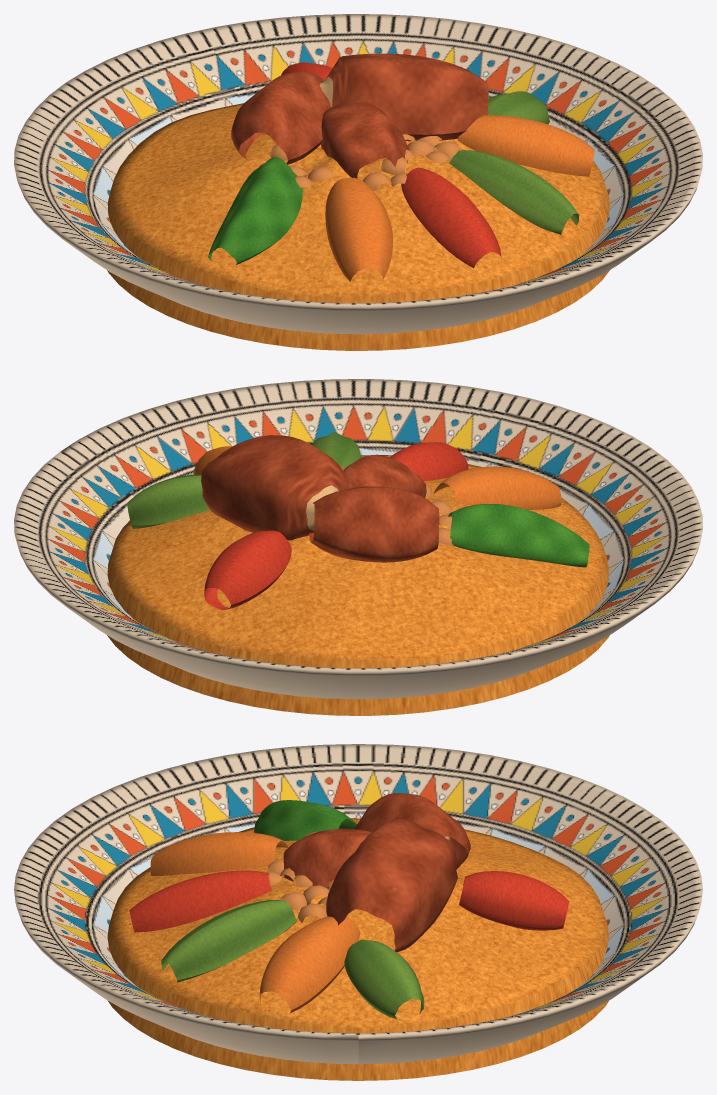
File: Couscous_Plat_090pct.fbx
3 views of the same model, one above another, from view 1: azimuth 30°, elevation 25°; view 2: azimuth 150°, elevation 25°; view 3: azimuth 270°, elevation 25° (orthographic).
Visible parts, largest first — view 1: 00_Plate_Tebsi_Ceramic, 01_Couscous_Semolina_Mound, 02_Meat_Lamb_Shank_Main, 03_Meat_Braised_Left, 06_Veg_Green_Pepper_Felfel, 10_Veg_Carrot_Right, 07_Veg_Carrot_FrontLeft, 08_Veg_Pumpkin_Red_Front, 09_Veg_Zucchini_FrontRight, 04_Meat_Braised_Front, 05_Chickpeas_Cluster, 11_Veg_Zucchini_FarRight; view 2: 00_Plate_Tebsi_Ceramic, 01_Couscous_Semolina_Mound, 02_Meat_Lamb_Shank_Main, 03_Meat_Braised_Left, 06_Veg_Green_Pepper_Felfel, 12_Veg_Carrot_TopRight, 07_Veg_Carrot_FrontLeft, 11_Veg_Zucchini_FarRight, 04_Meat_Braised_Front, 08_Veg_Pumpkin_Red_Front, 09_Veg_Zucchini_FrontRight, 05_Chickpeas_Cluster; view 3: 00_Plate_Tebsi_Ceramic, 01_Couscous_Semolina_Mound, 02_Meat_Lamb_Shank_Main, 09_Veg_Zucchini_FrontRight, 10_Veg_Carrot_Right, 08_Veg_Pumpkin_Red_Front, 12_Veg_Carrot_TopRight, 07_Veg_Carrot_FrontLeft, 11_Veg_Zucchini_FarRight, 04_Meat_Braised_Front, 03_Meat_Braised_Left, 06_Veg_Green_Pepper_Felfel (+1 smaller).
Part boxes in pixels (bbox=[...]): 00_Plate_Tebsi_Ceramic: bbox=[14, 14, 702, 334]; 01_Couscous_Semolina_Mound: bbox=[107, 103, 609, 350]; 02_Meat_Lamb_Shank_Main: bbox=[319, 53, 488, 141]; 03_Meat_Braised_Left: bbox=[231, 71, 330, 164]; 06_Veg_Green_Pepper_Felfel: bbox=[208, 157, 302, 264]; 10_Veg_Carrot_Right: bbox=[457, 115, 594, 176]; 07_Veg_Carrot_FrontLeft: bbox=[325, 177, 393, 282]; 08_Veg_Pumpkin_Red_Front: bbox=[401, 167, 501, 268]; 09_Veg_Zucchini_FrontRight: bbox=[449, 150, 579, 234]; 04_Meat_Braised_Front: bbox=[320, 99, 408, 178]; 05_Chickpeas_Cluster: bbox=[259, 134, 461, 190]; 11_Veg_Zucchini_FarRight: bbox=[488, 91, 549, 124]; 00_Plate_Tebsi_Ceramic: bbox=[14, 379, 702, 699]; 01_Couscous_Semolina_Mound: bbox=[107, 455, 609, 715]; 02_Meat_Lamb_Shank_Main: bbox=[201, 435, 349, 540]; 03_Meat_Braised_Left: bbox=[309, 486, 439, 562]; 06_Veg_Green_Pepper_Felfel: bbox=[448, 504, 589, 567]; 12_Veg_Carrot_TopRight: bbox=[204, 530, 291, 609]; 07_Veg_Carrot_FrontLeft: bbox=[433, 466, 561, 509]; 11_Veg_Zucchini_FarRight: bbox=[127, 474, 209, 528]; 04_Meat_Braised_Front: bbox=[343, 454, 426, 497]; 08_Veg_Pumpkin_Red_Front: bbox=[390, 442, 468, 481]; 09_Veg_Zucchini_FrontRight: bbox=[311, 432, 361, 468]; 05_Chickpeas_Cluster: bbox=[342, 469, 453, 545]; 00_Plate_Tebsi_Ceramic: bbox=[14, 744, 702, 1064]; 01_Couscous_Semolina_Mound: bbox=[107, 818, 608, 1080]; 02_Meat_Lamb_Shank_Main: bbox=[326, 817, 457, 952]; 09_Veg_Zucchini_FrontRight: bbox=[161, 899, 296, 982]; 10_Veg_Carrot_Right: bbox=[259, 916, 360, 1013]; 08_Veg_Pumpkin_Red_Front: bbox=[129, 870, 271, 932]; 12_Veg_Carrot_TopRight: bbox=[459, 871, 569, 930]; 07_Veg_Carrot_FrontLeft: bbox=[150, 832, 288, 875]; 11_Veg_Zucchini_FarRight: bbox=[344, 939, 424, 1020]; 04_Meat_Braised_Front: bbox=[283, 828, 371, 888]; 03_Meat_Braised_Left: bbox=[355, 793, 470, 869]; 06_Veg_Green_Pepper_Felfel: bbox=[254, 800, 357, 840].
Bounding box in the file's own units: 32 × 9.25 × 32.
